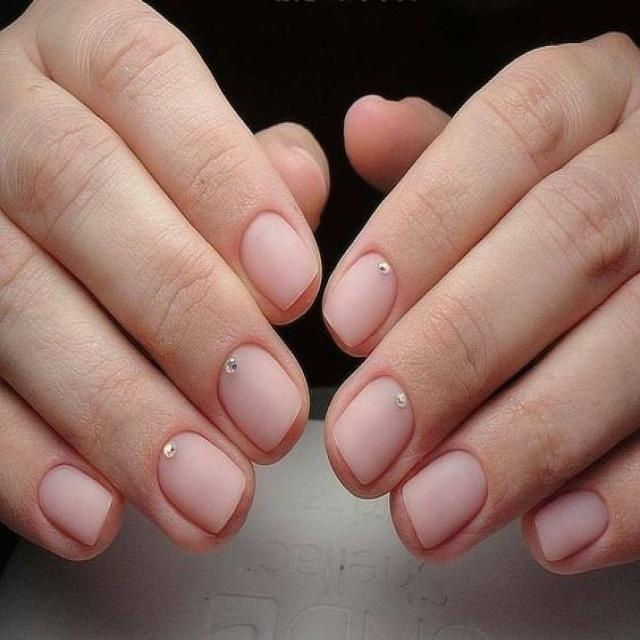Fingernail: (218, 343, 305, 453), (157, 431, 246, 534), (333, 375, 415, 486), (404, 451, 488, 549), (239, 213, 319, 311), (324, 252, 398, 348), (38, 465, 113, 547)
